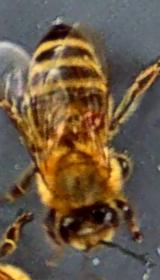varroa_mite: (66, 105, 118, 141)
